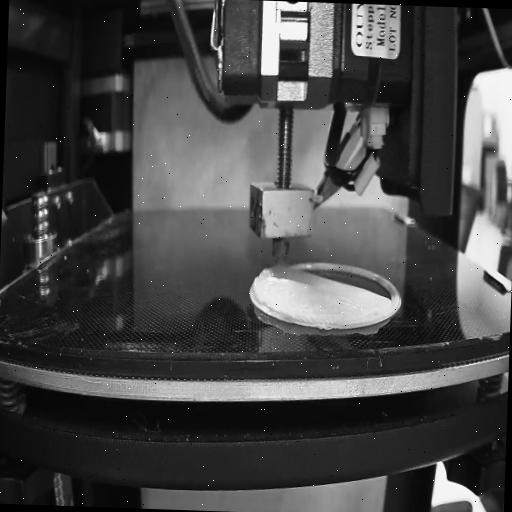over_extrusion: (248, 261, 276, 308), (276, 274, 310, 291)
